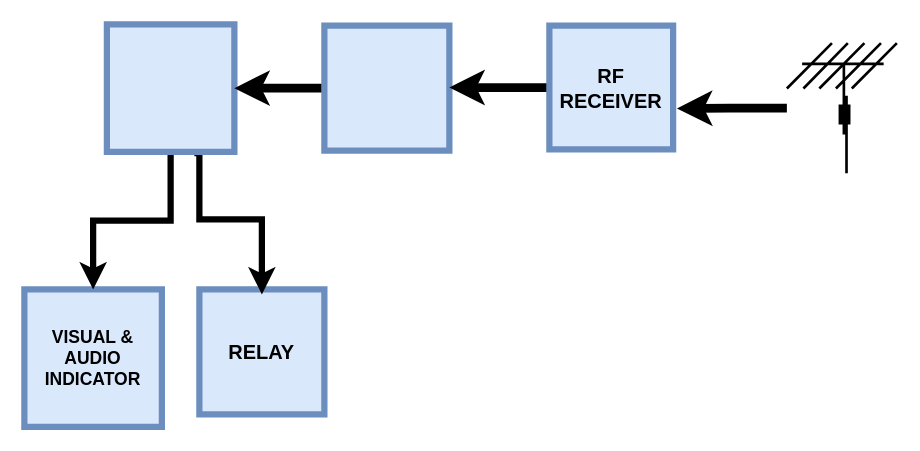
Some shapes in this 920 by 451 pixel diagram are drawn without their labels. Each missing label, with the centre of its shape:
"MCU" belongs at [170,87].
"RF DECODER" belongs at [386,87].
